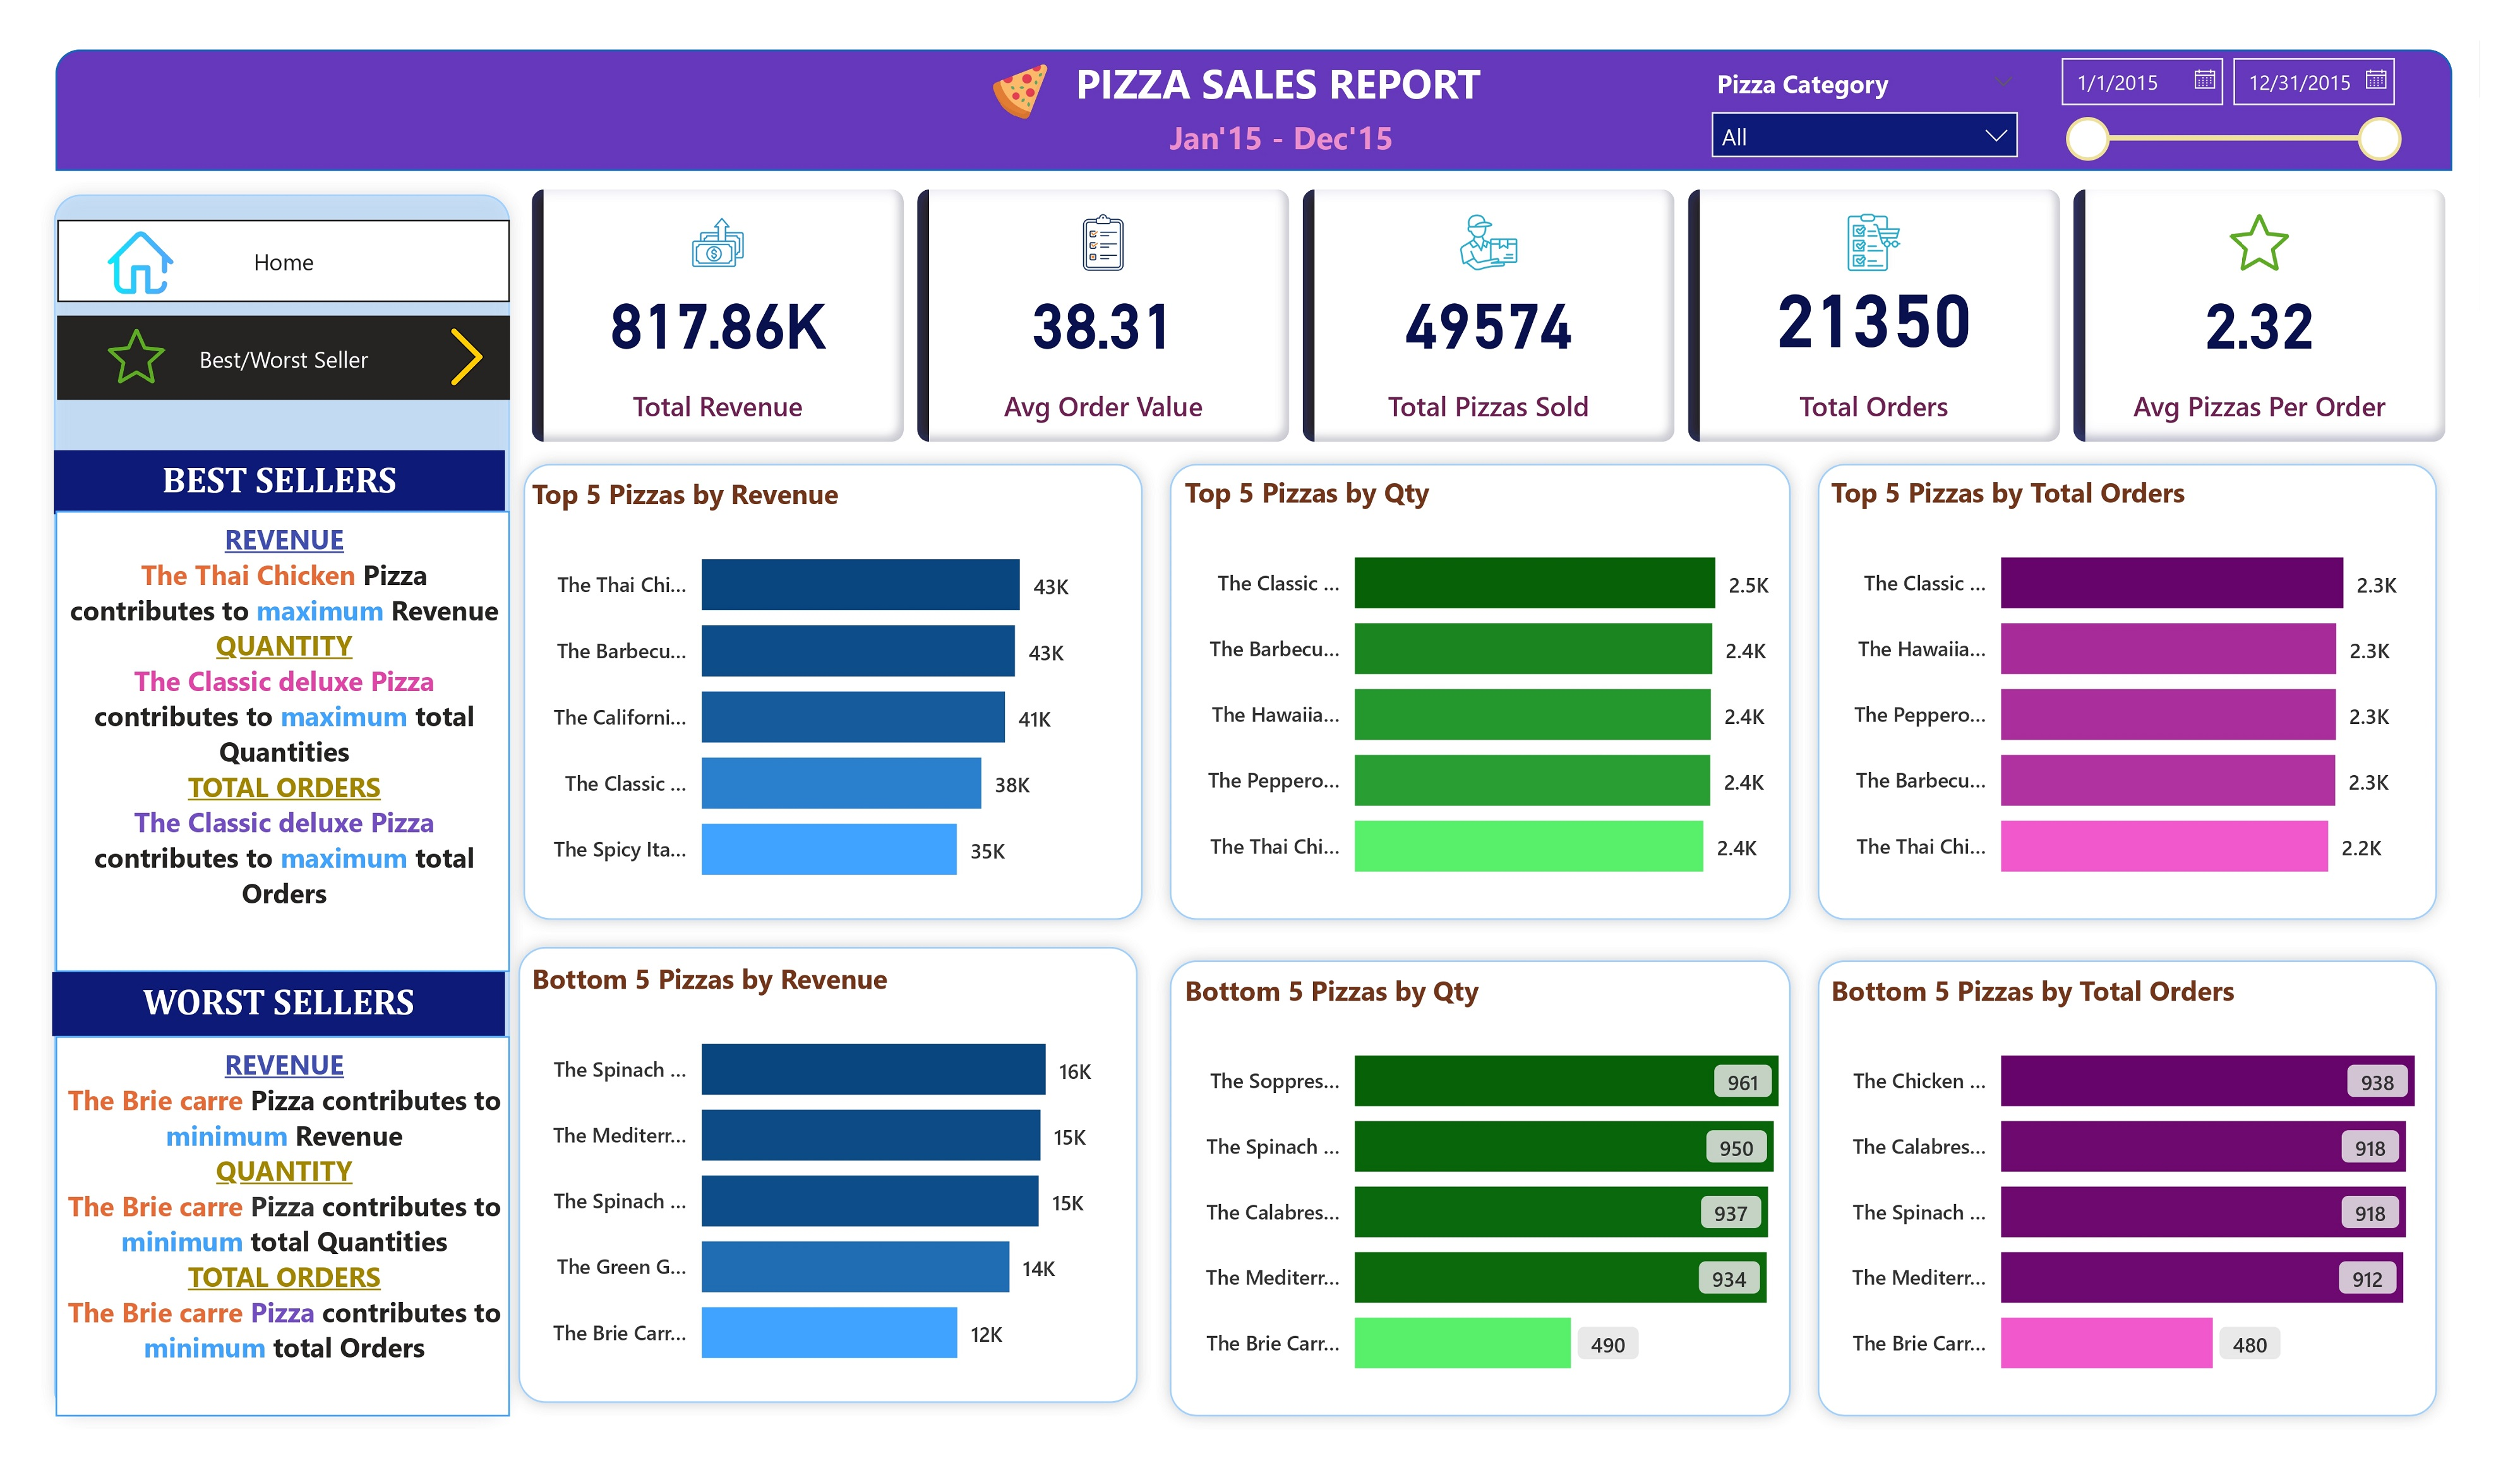

What the dashboard file says about the page in this screenshot:
{"tool":"powerbi","page":{"name":"Best/Worst Seller","canvas":[1450,825],"ordinal":1},"visuals":[{"type":"cardVisual","fields":{"Data":["pizza_sales.Total Revenue","pizza_sales.Avg Order Value","pizza_sales.Total Pizzas Sold","pizza_sales.Total Orders","pizza_sales.Avg Pizzas Per Order"]},"box":[286.5,82.5,1147.5,160.5],"z":0},{"type":"shape","box":[9,4.5,1423.5,72],"z":1000},{"type":"textbox","box":[559.5,3,351,43.5],"z":2000},{"type":"textbox","box":[643.6,38.7,187.2,40],"z":3000},{"type":"shape","box":[278.8,242.5,384.4,287.1],"z":4000},{"type":"shape","box":[0,82.5,287.1,742.5],"z":5000},{"type":"image","box":[559.6,2.1,44.5,54.4],"z":6000},{"type":"textbox","box":[8.2,242.5,267.3,37.9],"z":7000},{"type":"textbox","box":[8.6,278.6,270,274.3],"z":8000},{"type":"textbox","box":[7.1,552.9,268.6,38.6],"z":9000},{"type":"textbox","box":[8.6,591.4,270,225.7],"z":10000},{"type":"slicer","fields":{"Values":["pizza_sales.pizza_category"]},"box":[983.4,9.9,201.3,62.7],"z":11000},{"type":"slicer","fields":{"Values":["pizza_sales.order_date"]},"box":[1188,0,222.8,72.6],"z":12000},{"type":"shape","box":[663.3,242.5,384.4,287.1],"z":13000},{"type":"shape","box":[1047.8,242.5,384.4,287.1],"z":14000},{"type":"shape","box":[275.6,529.6,384.4,287.1],"z":15000},{"type":"shape","box":[663.3,537.9,384.4,287.1],"z":16000},{"type":"shape","box":[1047.8,537.9,384.4,287.1],"z":17000},{"type":"barChart","title":"Top 5 Pizzas by Revenue","fields":{"Category":["pizza_sales.pizza_name"],"Y":["pizza_sales.Total Revenue"]},"box":[287,258.5,372.5,258.5],"z":18000},{"type":"barChart","title":"Bottom 5 Pizzas by Revenue","fields":{"Category":["pizza_sales.pizza_name"],"Y":["pizza_sales.Total Revenue"]},"box":[287.1,546.1,372.9,257.4],"z":19000},{"type":"barChart","title":"Top 5 Pizzas by Qty","fields":{"Category":["pizza_sales.pizza_name"],"Y":["pizza_sales.Total Pizzas Sold"]},"box":[674.9,257.4,372.9,257.4],"z":20000},{"type":"barChart","title":"Bottom 5 Pizzas by Qty","fields":{"Category":["pizza_sales.pizza_name"],"Y":["pizza_sales.Total Pizzas Sold"]},"box":[674.9,552.8,372.9,257.4],"z":21000},{"type":"barChart","title":"Top 5 Pizzas by Total Orders","fields":{"Category":["pizza_sales.pizza_name"],"Y":["pizza_sales.Total Orders"]},"box":[1059.3,257.4,372.9,257.4],"z":22000},{"type":"barChart","title":"Bottom 5 Pizzas by Total Orders","fields":{"Category":["pizza_sales.pizza_name"],"Y":["pizza_sales.Total Orders"]},"box":[1059.3,552.8,372.9,257.4],"z":23000},{"type":"pageNavigator","box":[9.9,105.6,268.9,49.5],"z":24000},{"type":"pageNavigator","box":[9.9,163.3,268.9,49.5],"z":25000},{"type":"image","box":[231,160,44.5,54.4],"z":26000},{"type":"image","box":[34.6,105.6,49.5,51.1],"z":27000},{"type":"image","box":[34.6,160,44.5,54.4],"z":28000}]}

Visuals, with their boxes in screenshot pixels (x1, y1, x2, y2), scaled from the page's 1450x825 canvas onto the 2520x1470 screenshot:
cardVisual - pizza_sales.Total Revenue x pizza_sales.Avg Order Value: Rect(498, 147, 2492, 433)
shape: Rect(16, 8, 2490, 136)
textbox: Rect(973, 5, 1582, 83)
textbox: Rect(1119, 69, 1444, 140)
shape: Rect(484, 432, 1153, 944)
shape: Rect(0, 147, 499, 1469)
image: Rect(973, 4, 1050, 100)
textbox: Rect(15, 432, 479, 500)
textbox: Rect(15, 497, 484, 985)
textbox: Rect(13, 985, 479, 1054)
textbox: Rect(15, 1054, 484, 1456)
slicer - pizza_sales.pizza_category: Rect(1709, 18, 2059, 130)
slicer - pizza_sales.order_date: Rect(2065, 0, 2452, 130)
shape: Rect(1153, 432, 1821, 944)
shape: Rect(1821, 432, 2489, 944)
shape: Rect(479, 944, 1147, 1455)
shape: Rect(1153, 958, 1821, 1469)
shape: Rect(1821, 958, 2489, 1469)
"Top 5 Pizzas by Revenue" barChart: Rect(499, 461, 1146, 921)
"Bottom 5 Pizzas by Revenue" barChart: Rect(499, 973, 1147, 1431)
"Top 5 Pizzas by Qty" barChart: Rect(1173, 459, 1821, 917)
"Bottom 5 Pizzas by Qty" barChart: Rect(1173, 985, 1821, 1443)
"Top 5 Pizzas by Total Orders" barChart: Rect(1841, 459, 2489, 917)
"Bottom 5 Pizzas by Total Orders" barChart: Rect(1841, 985, 2489, 1443)
pageNavigator: Rect(17, 188, 484, 276)
pageNavigator: Rect(17, 291, 484, 379)
image: Rect(402, 285, 479, 382)
image: Rect(60, 188, 146, 279)
image: Rect(60, 285, 138, 382)
